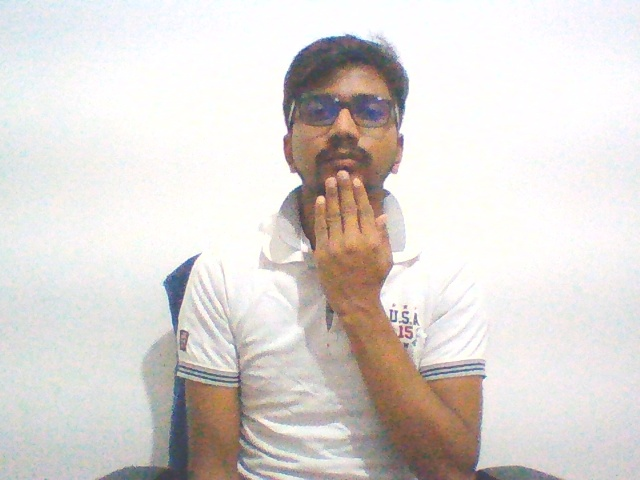mango: (304, 167, 405, 330)
